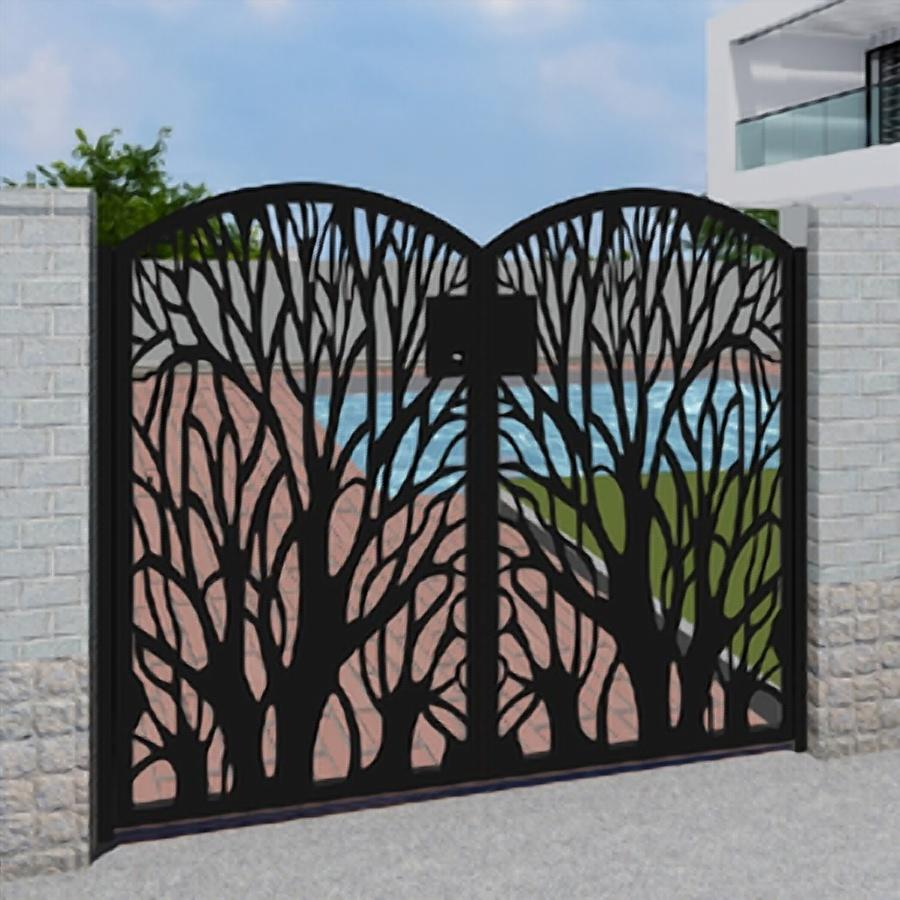Gate: (92, 180, 812, 862)
Window-without-grill: (863, 40, 900, 144)
